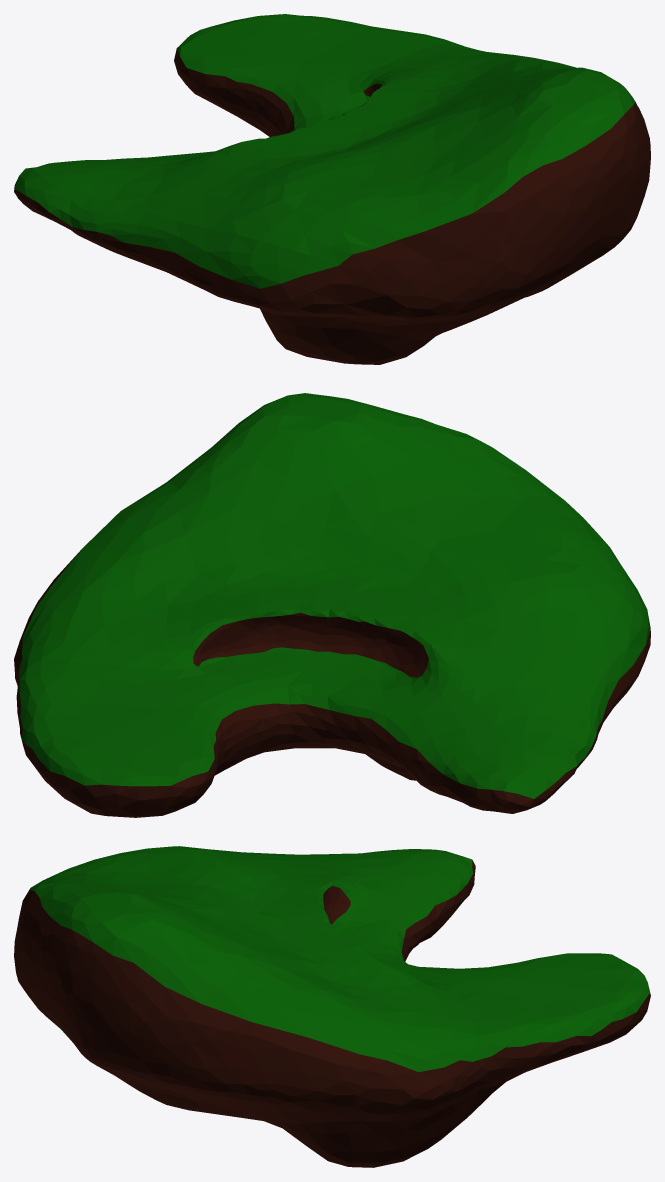
The model's file is island2.obj.
3 renders of one model, top to bottom at view 1: azimuth 30°, elevation 25°; view 2: azimuth 150°, elevation 25°; view 3: azimuth 270°, elevation 25°, orthographic. The views are drawn at different scales.
Visible parts, largest first — view 1: Sphere.001; view 2: Sphere.001; view 3: Sphere.001.
Boxes of the visible parts, x1,y1,x2,y2 form: Sphere.001: [14, 14, 650, 364]; Sphere.001: [14, 393, 650, 817]; Sphere.001: [14, 846, 650, 1167].
Bounding box in the file's own units: 71.36 × 35.02 × 80.28.
